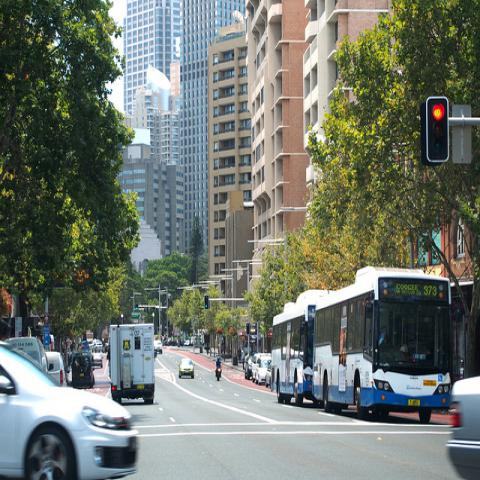bus: (271, 266, 452, 427)
car: (0, 340, 139, 479), (445, 375, 479, 479), (45, 351, 67, 386), (252, 352, 272, 382), (255, 356, 271, 384), (178, 358, 195, 378), (90, 339, 104, 353), (265, 360, 272, 388), (92, 354, 104, 367), (154, 338, 163, 352)
motorcycle: (216, 364, 222, 381)
truck: (106, 322, 156, 404), (4, 336, 48, 376), (71, 350, 95, 389)
